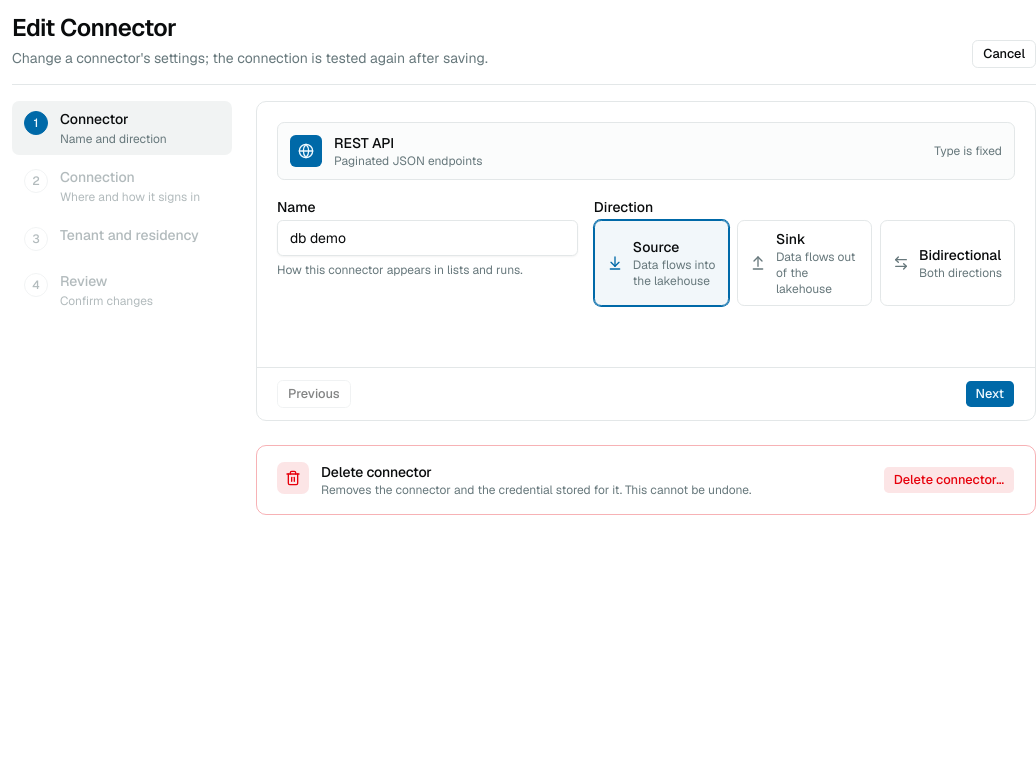
Test: ConnectorEditPage › requires a new credential when the sign-in method changes, and saves it first
Expected: the field labelled "Name" is shown, x1=277 y1=220 x2=578 y2=256
Click the button "Next" at (990, 394), box x1=964 y1=380 x2=1015 y2=408
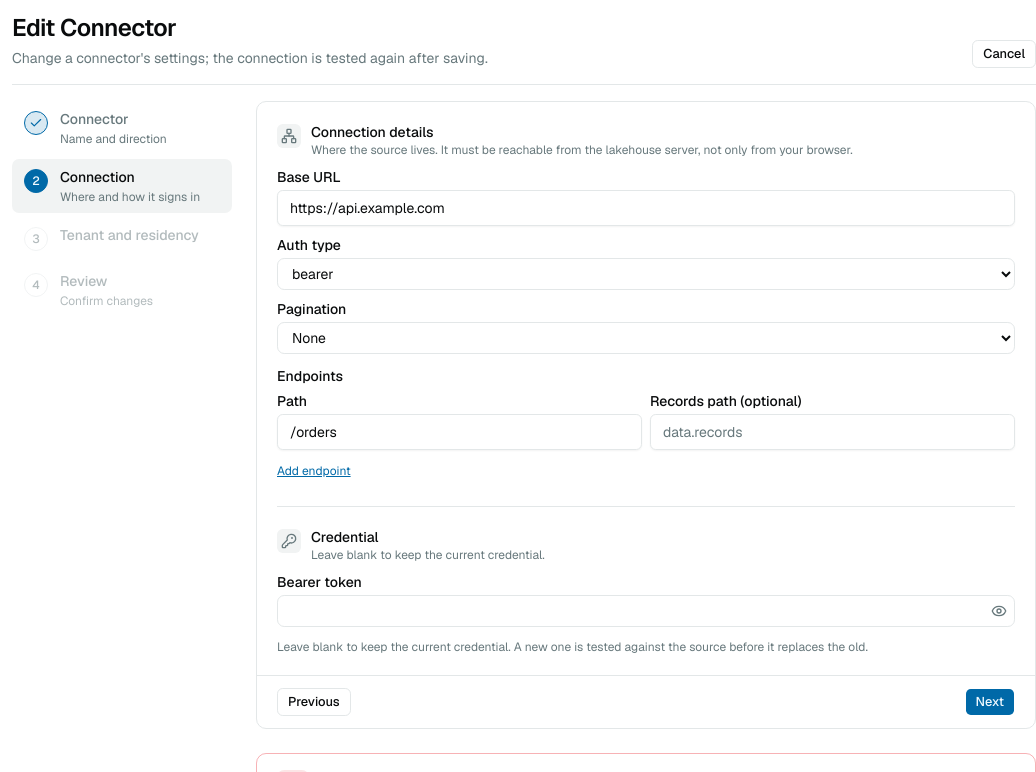
Select "basic" in the dropdown labelled "Auth type" at (646, 274), box x1=277 y1=258 x2=1015 y2=290
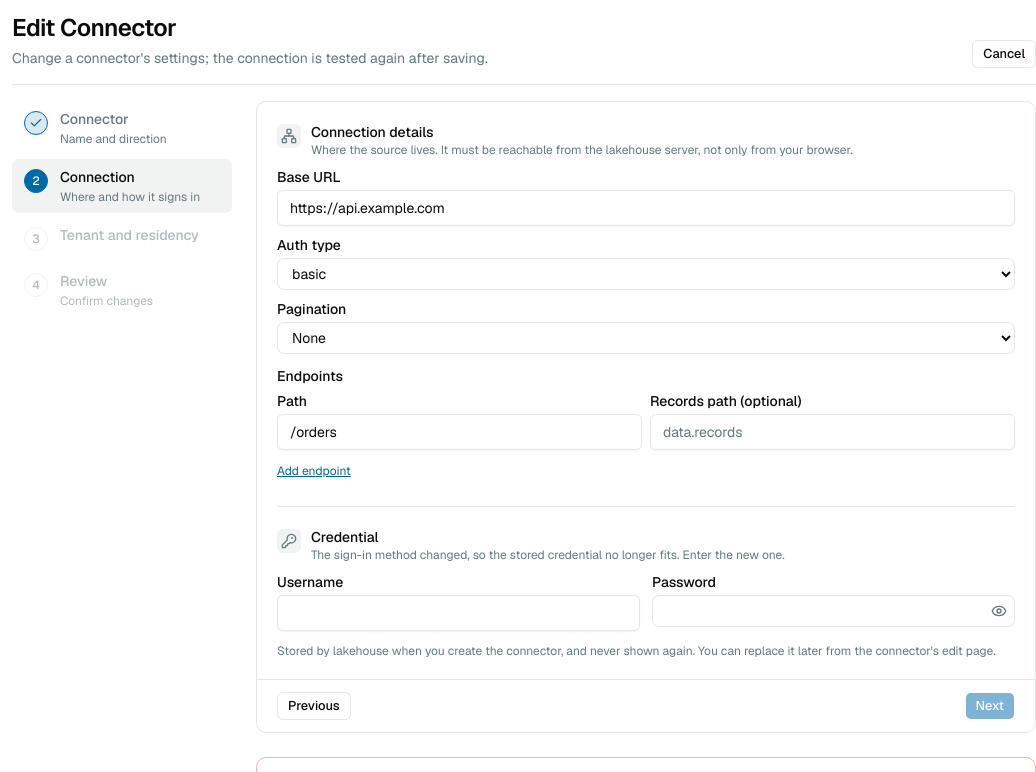
Now the text "sign-in method changed" is shown, box x1=311 y1=547 x2=785 y2=563
Now the button "Next" is disabled, box x1=964 y1=692 x2=1015 y2=720
Type "svc" into the field labelled "Username" at (458, 613), box x1=277 y1=595 x2=640 y2=631
Type "pw" into the password field labelled "Password" at (820, 611), box x1=653 y1=593 x2=987 y2=629
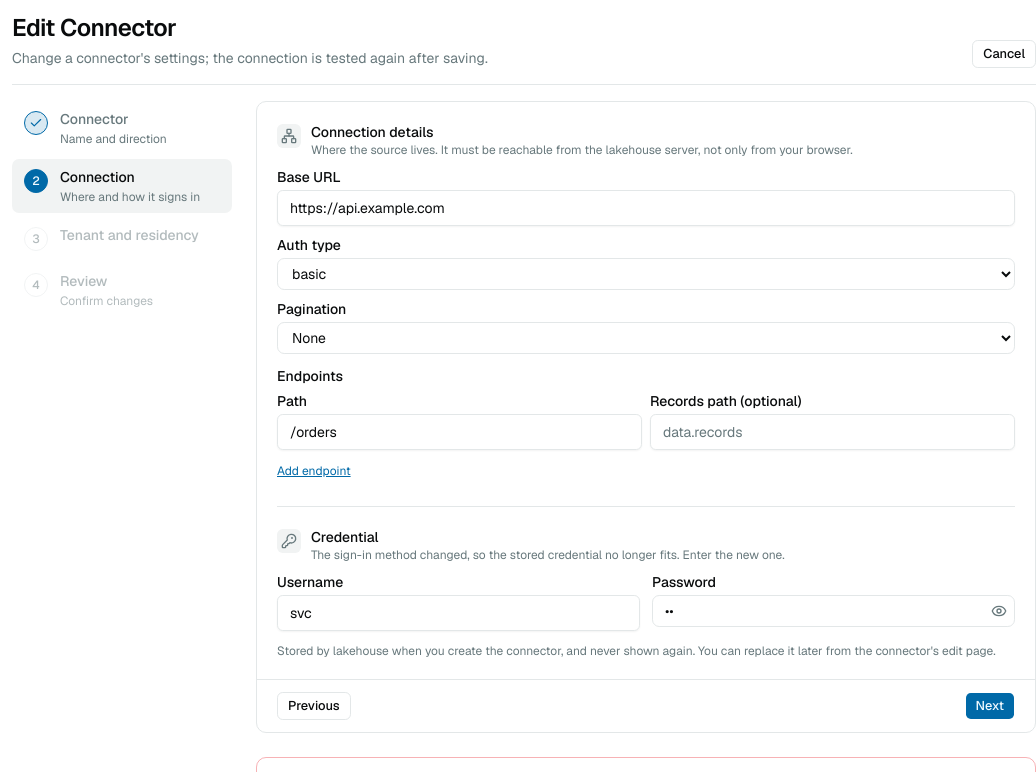
Click the button "Next" at (990, 706), box x1=964 y1=692 x2=1015 y2=720
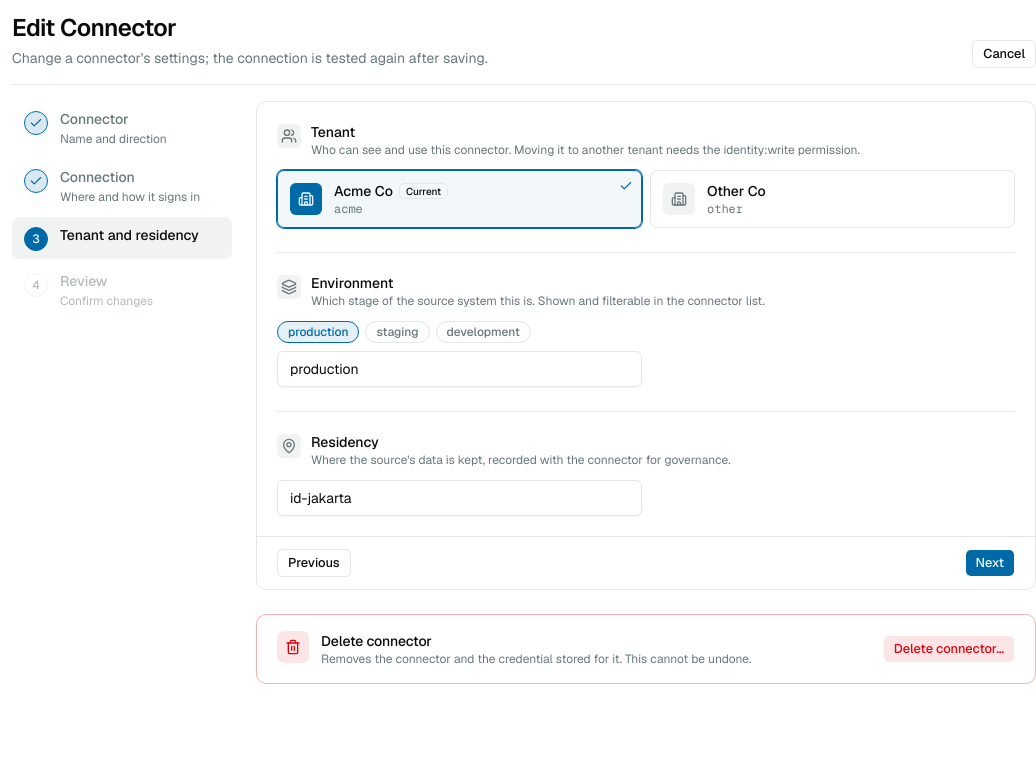
Click the button "Next" at (990, 563), box x1=964 y1=549 x2=1015 y2=577
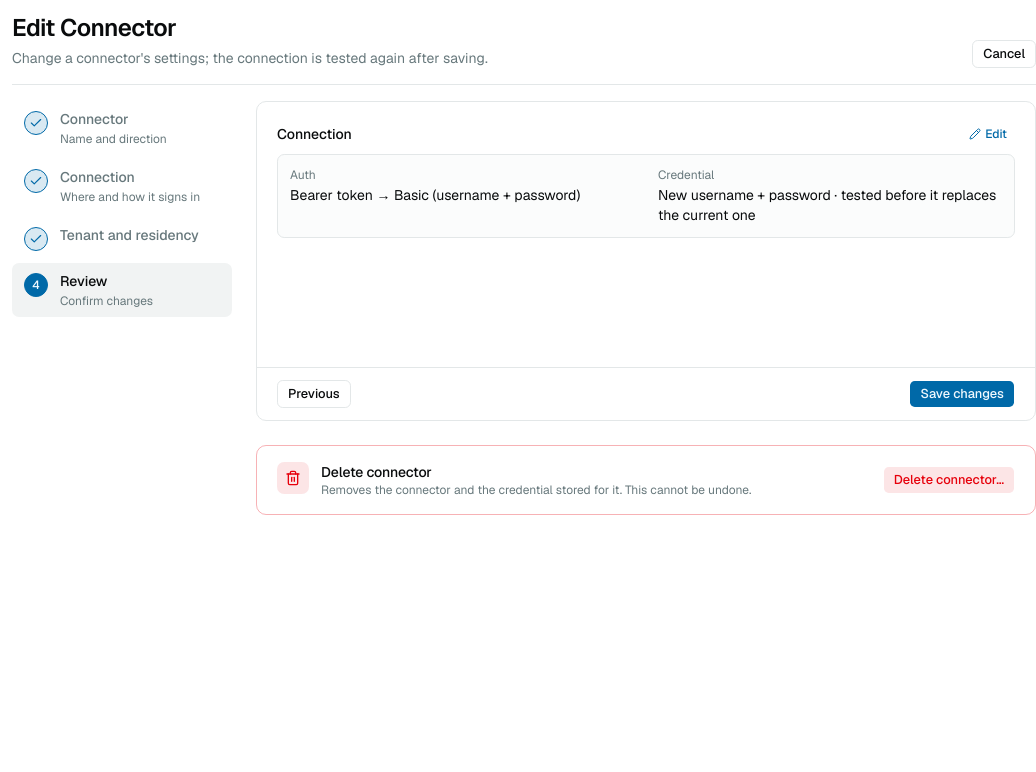
Click the button "Save changes" at (962, 394), box x1=910 y1=380 x2=1015 y2=408
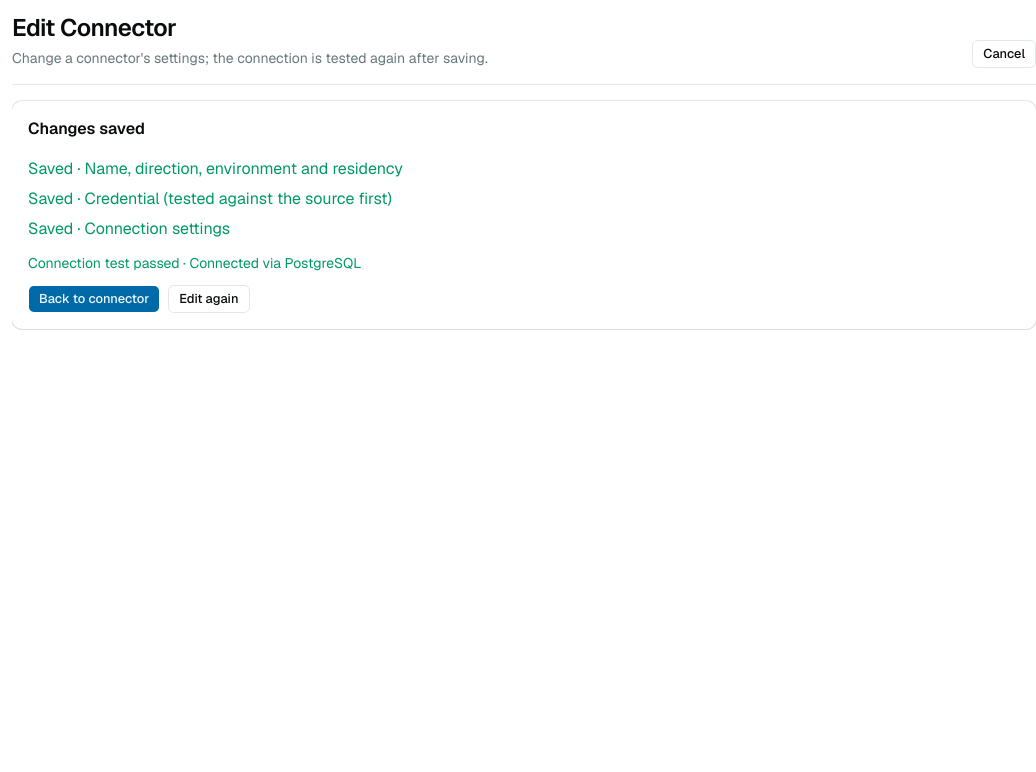
Now the text "Connection test passed · Connected via PostgreSQL" is shown, box x1=28 y1=254 x2=361 y2=272
